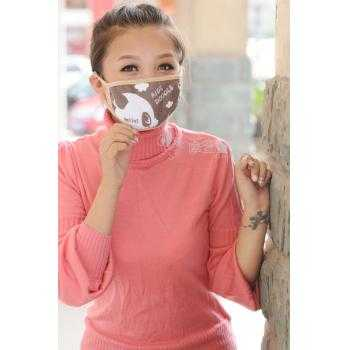face_mask: (104, 34, 182, 131)
